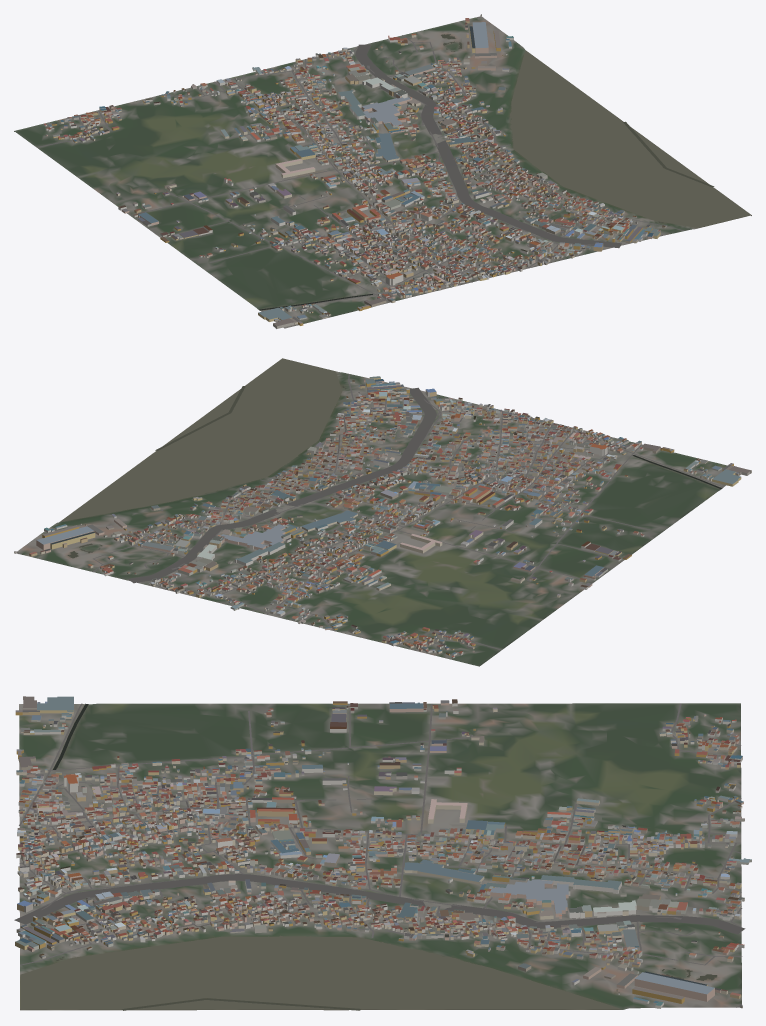
The picture shows the model from 3 angles, top to bottom: view 1: azimuth 30°, elevation 25°; view 2: azimuth 150°, elevation 25°; view 3: azimuth 270°, elevation 25°; orthographic projection. The views are drawn at different scales.
Parts seen in each view (by area): view 1: ground, buildings, water, roads; view 2: ground, buildings, water, roads; view 3: ground, buildings, water, roads.
Boxes of the visible parts, left/top/right/bottom form: ground: left=14, top=16, right=751, bottom=328; buildings: left=44, top=14, right=666, bottom=328; water: left=259, top=34, right=750, bottom=310; roads: left=36, top=17, right=684, bottom=311; ground: left=15, top=359, right=739, bottom=666; buildings: left=14, top=376, right=751, bottom=658; water: left=60, top=358, right=722, bottom=558; roads: left=17, top=374, right=723, bottom=650; ground: left=19, top=703, right=741, bottom=1010; buildings: left=15, top=696, right=751, bottom=1008; water: left=20, top=703, right=717, bottom=1010; roads: left=14, top=703, right=745, bottom=1007.
Size of the model in its own units: 1424 by 26 by 1433.
